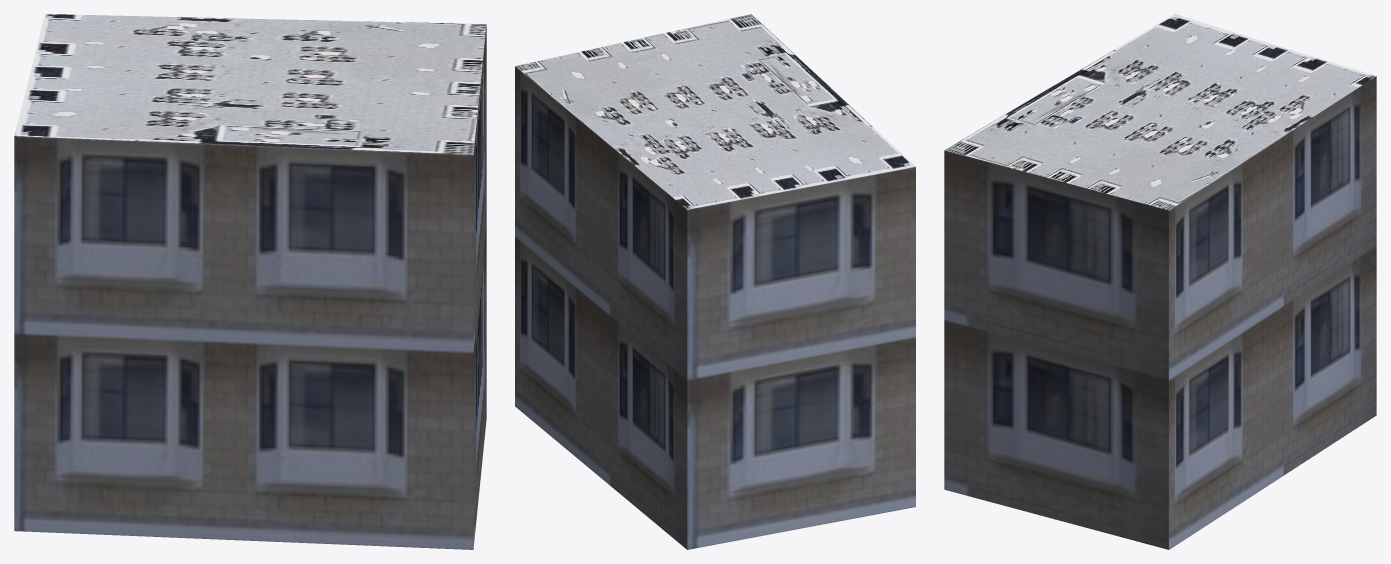
The model's file is ResTex__4846.fbx.
3 views of the same model, side by side, from view 1: azimuth 30°, elevation 25°; view 2: azimuth 150°, elevation 25°; view 3: azimuth 270°, elevation 25° (orthographic). The views are drawn at different scales.
Visible parts, largest first — view 1: CityEngineMaterial_3_m, CityEngineMaterial_8_m; view 2: CityEngineMaterial_3_m, CityEngineMaterial_8_m; view 3: CityEngineMaterial_3_m, CityEngineMaterial_8_m.
Boxes of the visible parts, x1,y1,x2,y2 form: CityEngineMaterial_3_m: (14, 25, 486, 549); CityEngineMaterial_8_m: (14, 14, 486, 154); CityEngineMaterial_3_m: (515, 66, 915, 549); CityEngineMaterial_8_m: (515, 14, 915, 209); CityEngineMaterial_3_m: (944, 76, 1376, 549); CityEngineMaterial_8_m: (945, 14, 1375, 210).
Bounding box in the file's own units: 7.45 × 6 × 6.92.
2 materials, 2 textured.
